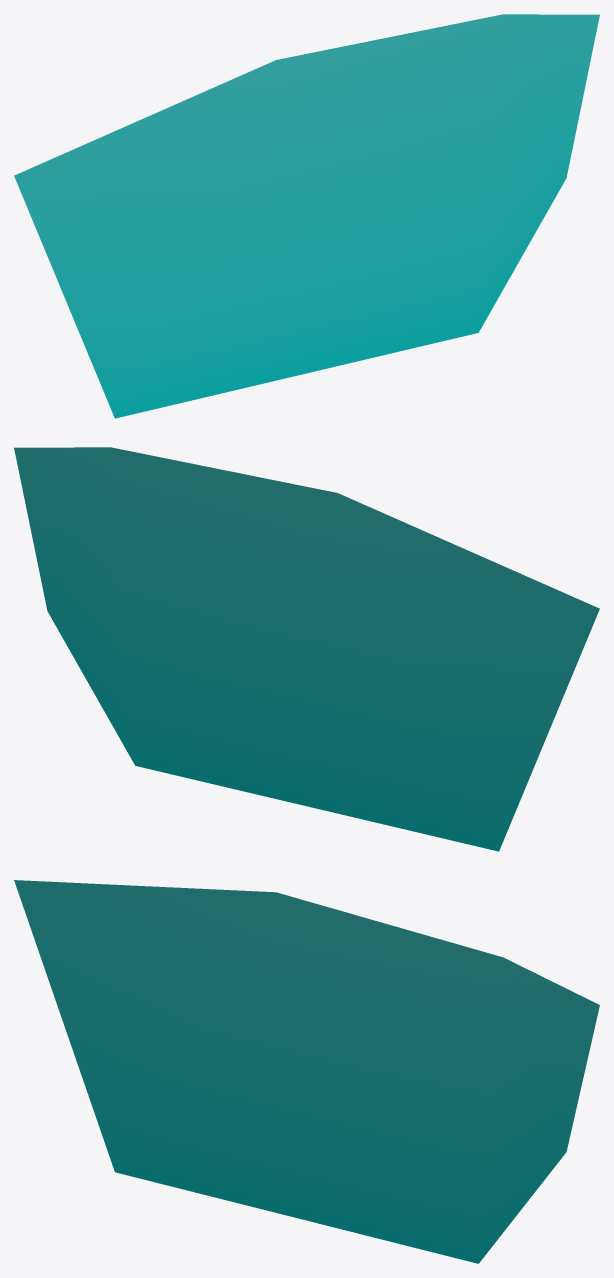
File: Nordic_Coastal_Groundcover_vlqkdeaja_Mid_vlqkdeaja_VarB_LOD4.fbx
3 views of the same model, one above another, from view 1: azimuth 30°, elevation 25°; view 2: azimuth 150°, elevation 25°; view 3: azimuth 330°, elevation 25° (orthographic).
Visible parts, largest first — view 1: _6097_VarB_LOD6; view 2: _6097_VarB_LOD6; view 3: _6097_VarB_LOD6.
Boxes of the visible parts, box(x1,y1,x2,y2) form: _6097_VarB_LOD6: box(14, 14, 599, 418); _6097_VarB_LOD6: box(14, 447, 599, 851); _6097_VarB_LOD6: box(14, 880, 599, 1263).
Bounding box in the file's own units: 97.78 × 51.38 × 0.
